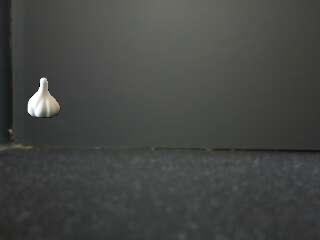Garlic: (26, 77, 63, 118)
